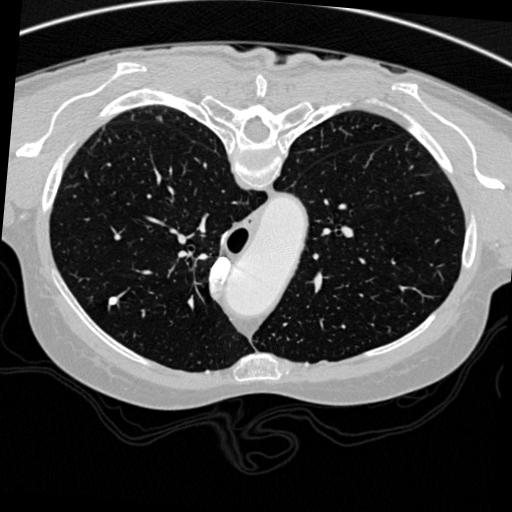nodule: (105, 295, 119, 309)
